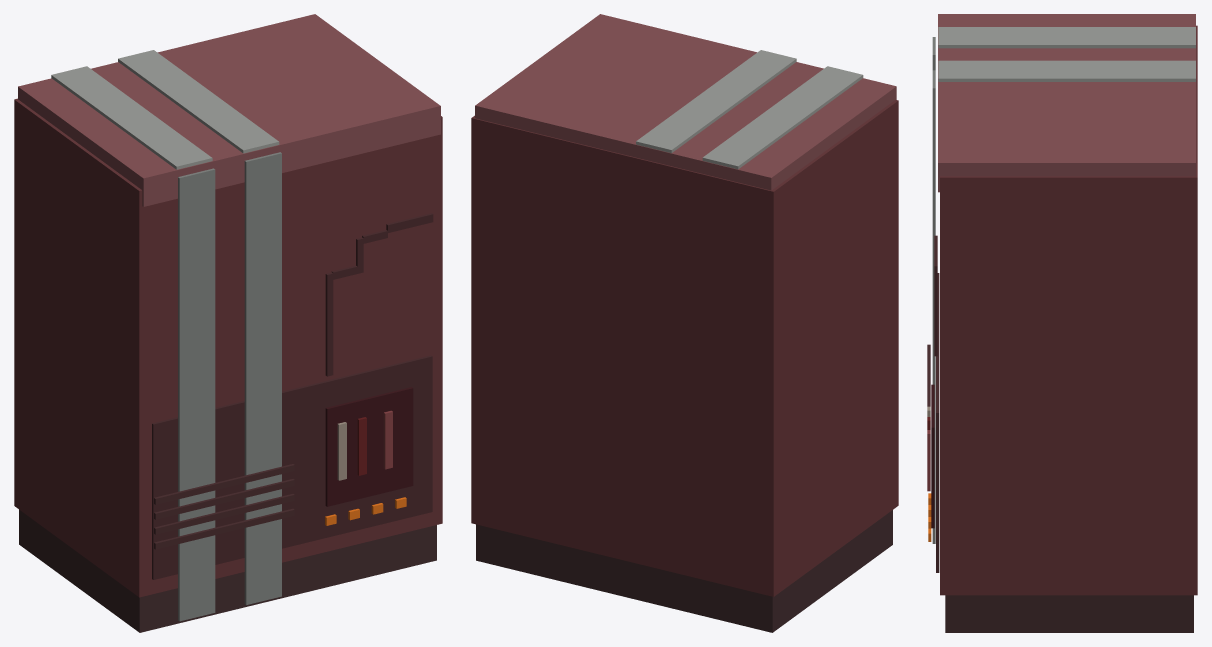
Rendered from CMU3DBurgundyBlackBoxRecorder.glb.
The picture shows the model from 3 angles, left to right: view 1: azimuth 30°, elevation 25°; view 2: azimuth 150°, elevation 25°; view 3: azimuth 270°, elevation 25°; orthographic projection. The views are drawn at different scales.
Parts seen in each view (by area): view 1: burgundy recorder cabinet, recorder upper cap, vertical gray reinforcement (×2), recorder lower dark service face, black box lower plinth, gray reinforcement over top (×2), recorder status inset, recorder left ventilation line (×4), raised angular panel seam; view 2: burgundy recorder cabinet, recorder upper cap, black box lower plinth, gray reinforcement over top (×2); view 3: burgundy recorder cabinet, recorder upper cap, gray reinforcement over top (×2), black box lower plinth, vertical gray reinforcement, recorder lower dark service face, recorder status inset.
Part boxes in pixels (x1,y1,x2,y2): burgundy recorder cabinet: (14,98,442,597); recorder upper cap: (18,14,440,206); vertical gray reinforcement (×2): (178,152,281,621); recorder lower dark service face: (152,355,432,579); black box lower plinth: (19,509,436,632); gray reinforcement over top (×2): (51,50,279,169); recorder status inset: (325,387,413,506); recorder left ventilation line (×4): (154,464,294,549); raised angular panel seam: (325,272,333,376); burgundy recorder cabinet: (471,100,898,596); recorder upper cap: (475,14,896,190); black box lower plinth: (476,510,892,632); gray reinforcement over top (×2): (636,50,863,169); burgundy recorder cabinet: (940,25,1197,595); recorder upper cap: (938,14,1195,192); gray reinforcement over top (×2): (938,27,1195,81); black box lower plinth: (945,595,1193,632); vertical gray reinforcement: (932,70,935,543); recorder lower dark service face: (936,273,939,572); recorder status inset: (931,384,934,528).
Bounding box in the file's own units: 1 × 1.45 × 0.75.
